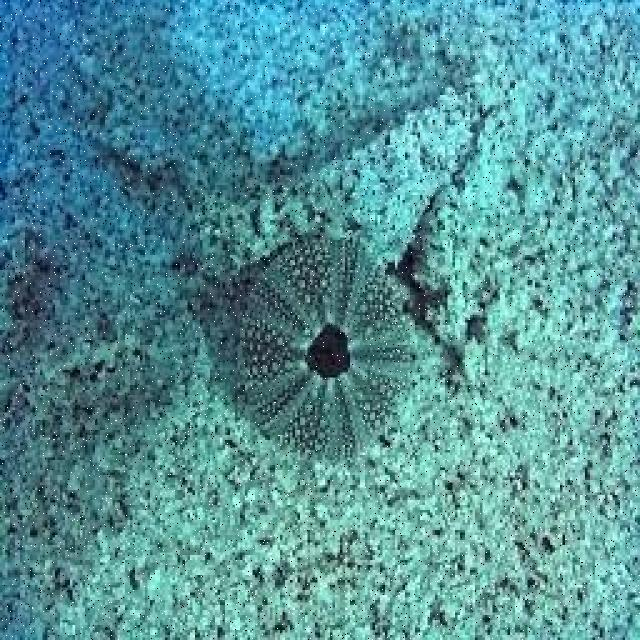reefs: (238, 231, 421, 472)
